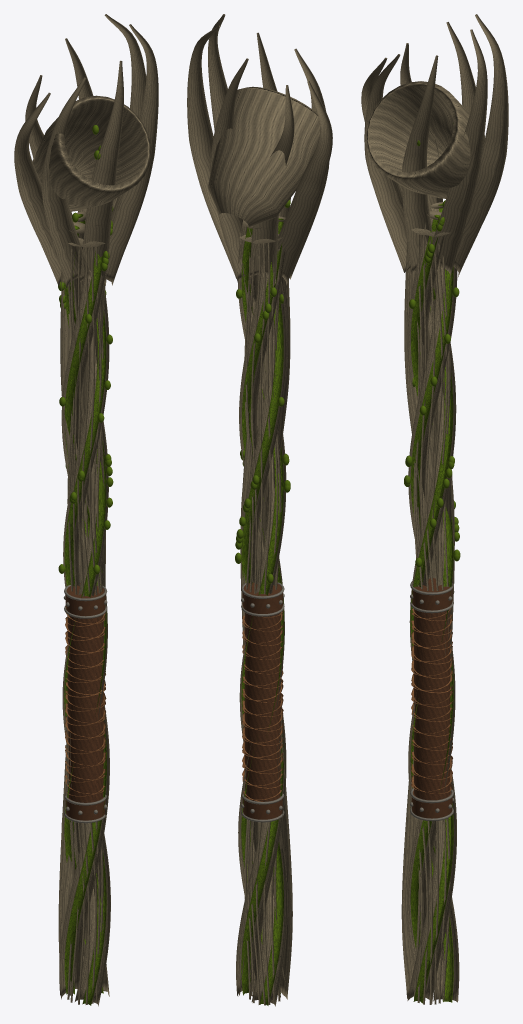
Rendered from mossbound_staff.glb.
3 renders of one model, left to right at view 1: azimuth 30°, elevation 25°; view 2: azimuth 150°, elevation 25°; view 3: azimuth 330°, elevation 25°, orthographic.
Parts seen in each view (by area): view 1: Weathered living ash, Dense green moss seam, Worn wrapped grip, Leather strap burnished edges, Worn metal edge and rivets; view 2: Weathered living ash, Dense green moss seam, Worn wrapped grip, Leather strap burnished edges, Worn metal edge and rivets; view 3: Weathered living ash, Dense green moss seam, Worn wrapped grip, Leather strap burnished edges, Worn metal edge and rivets.
Part boxes in pixels (x1,y1,x2,y2): Weathered living ash: (14,14,158,1006); Dense green moss seam: (58,125,113,1005); Worn wrapped grip: (65,583,105,820); Leather strap burnished edges: (65,606,106,807); Worn metal edge and rivets: (63,585,107,823); Weathered living ash: (187,14,332,1006); Dense green moss seam: (235,200,290,1005); Worn wrapped grip: (242,582,282,819); Leather strap burnished edges: (242,604,283,801); Worn metal edge and rivets: (241,582,284,822); Weathered living ash: (361,14,508,1004); Dense green moss seam: (404,123,460,1003); Worn wrapped grip: (411,578,452,818); Leather strap burnished edges: (411,599,452,804); Worn metal edge and rivets: (410,581,454,821).
Size of the model in its own units: 0.2731 by 1.85 by 0.2355.
5 materials, 5 textured.
